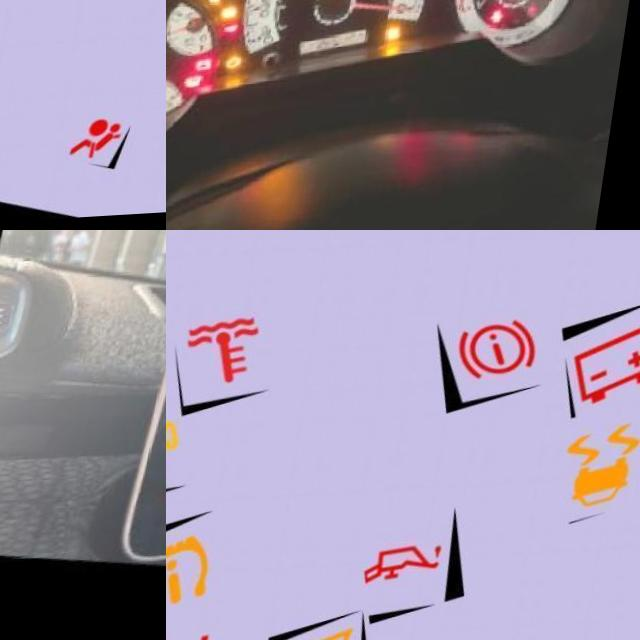Seat Belt: (535, 10, 545, 21)
